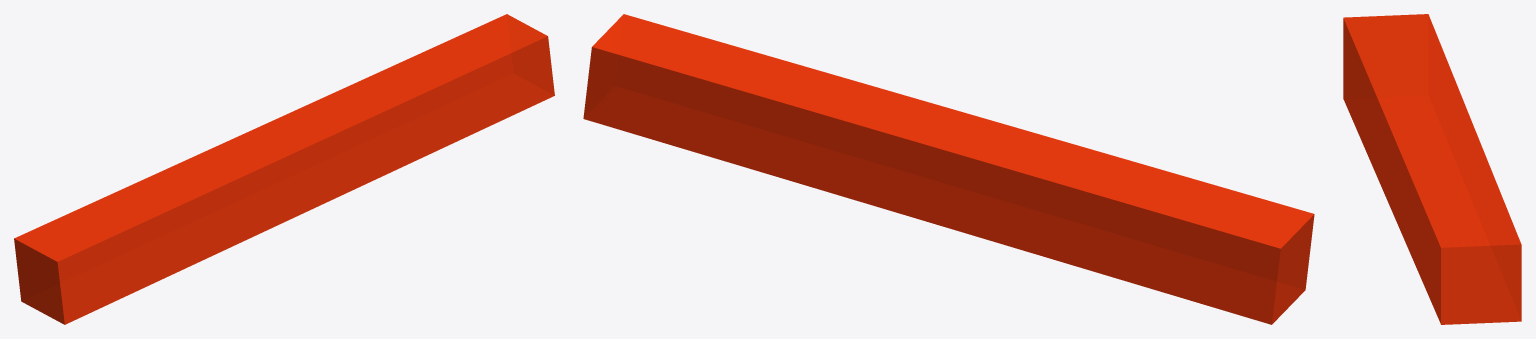
File: Event_420107950_EErechit_27.fbx
The picture shows the model from 3 angles, left to right: view 1: azimuth 30°, elevation 25°; view 2: azimuth 150°, elevation 25°; view 3: azimuth 270°, elevation 25°; orthographic projection. The views are drawn at different scales.
Visible parts, largest first — view 1: Model; view 2: Model; view 3: Model.
Part boxes in pixels (<box>): Model: <box>14,14,554,324</box>; Model: <box>583,14,1314,324</box>; Model: <box>1343,14,1521,324</box>.
Bounding box in the file's own units: 0.6716 × 0.1548 × 0.1595.
